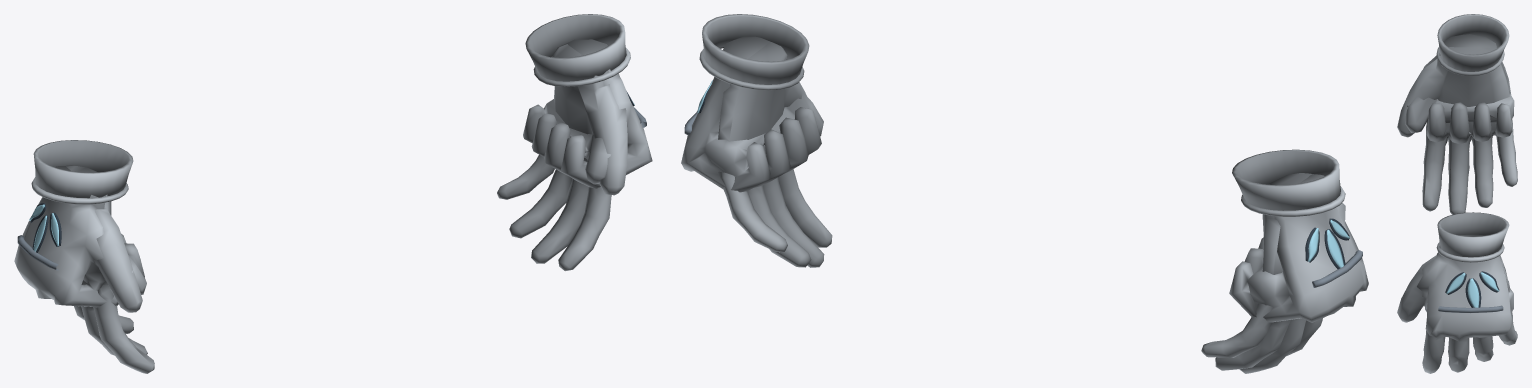
Rendered from g_mithril_d.glb.
3 views of the same model, side by side, from view 1: azimuth 30°, elevation 25°; view 2: azimuth 150°, elevation 25°; view 3: azimuth 270°, elevation 25° (orthographic). The views are drawn at different scales.
Parts seen in each view (by area): view 1: ArmL_HandOpen, ArmR_Hand, ArmL_Hand, ArmR_HandOpen, ArmL_Gauntlet, ArmR_Gauntlet; view 2: ArmR_Hand, ArmL_HandOpen, ArmL_Hand, ArmR_Gauntlet, ArmL_Gauntlet, ArmR_HandOpen; view 3: ArmR_HandOpen, ArmL_Hand, ArmR_Hand, ArmL_HandOpen, ArmL_Gauntlet, ArmR_Gauntlet.
Part boxes in pixels (x1=…): ArmL_HandOpen: x1=497, y1=44, x2=627, y2=271; ArmR_Hand: x1=14, y1=165, x2=146, y2=307; ArmL_Hand: x1=523, y1=39, x2=652, y2=188; ArmR_HandOpen: x1=66, y1=165, x2=154, y2=373; ArmL_Gauntlet: x1=525, y1=14, x2=630, y2=86; ArmR_Gauntlet: x1=31, y1=140, x2=133, y2=204; ArmR_Hand: x1=1229, y1=174, x2=1368, y2=322; ArmL_HandOpen: x1=718, y1=41, x2=832, y2=267; ArmL_Hand: x1=681, y1=36, x2=823, y2=192; ArmR_Gauntlet: x1=1232, y1=149, x2=1345, y2=216; ArmL_Gauntlet: x1=699, y1=14, x2=809, y2=90; ArmR_HandOpen: x1=1201, y1=173, x2=1322, y2=373; ArmR_HandOpen: x1=1397, y1=44, x2=1517, y2=214; ArmL_Hand: x1=1417, y1=246, x2=1513, y2=341; ArmR_Hand: x1=1405, y1=34, x2=1514, y2=143; ArmL_HandOpen: x1=1397, y1=234, x2=1517, y2=373; ArmL_Gauntlet: x1=1436, y1=212, x2=1509, y2=262; ArmR_Gauntlet: x1=1436, y1=14, x2=1509, y2=75.
Bounding box in the file's own units: 0.6882 × 0.2322 × 0.1508.
